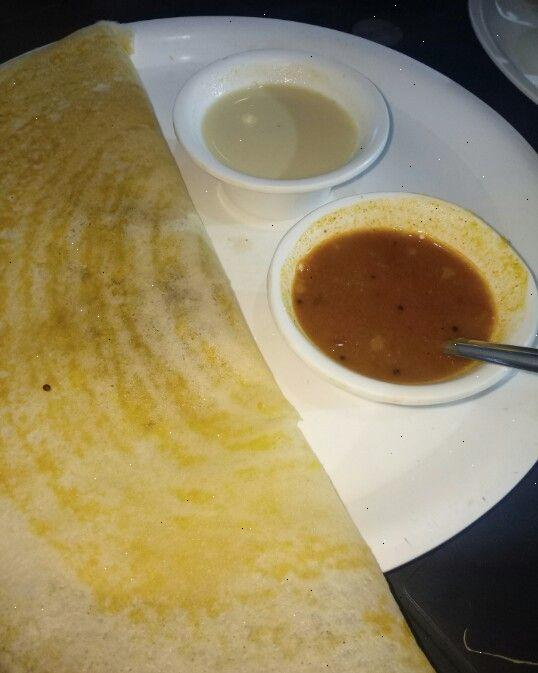dosa: (0, 59, 397, 673)
